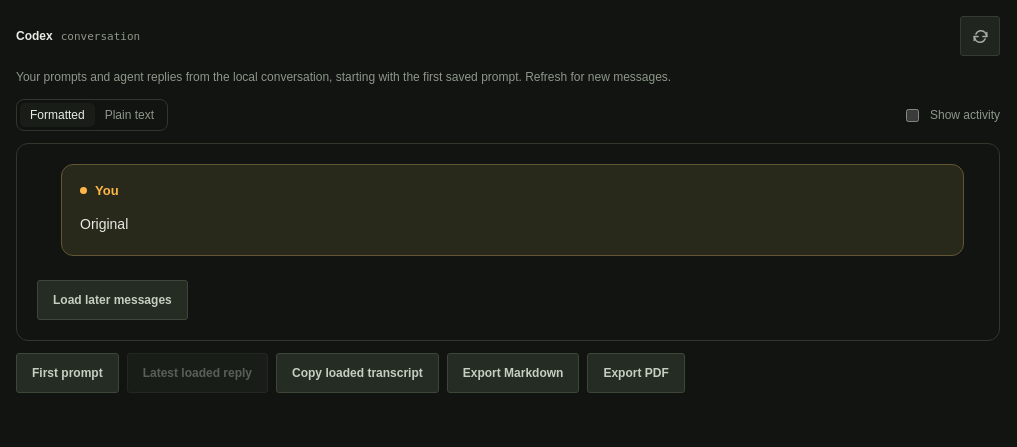
Test: AgentTranscript › keeps loaded messages on a paging error and refreshes from the beginning
Check: the text "Original" is shown, box [80,216,128,232]
Click the button "Load later messages" at (112, 300), box [37,280,188,320]
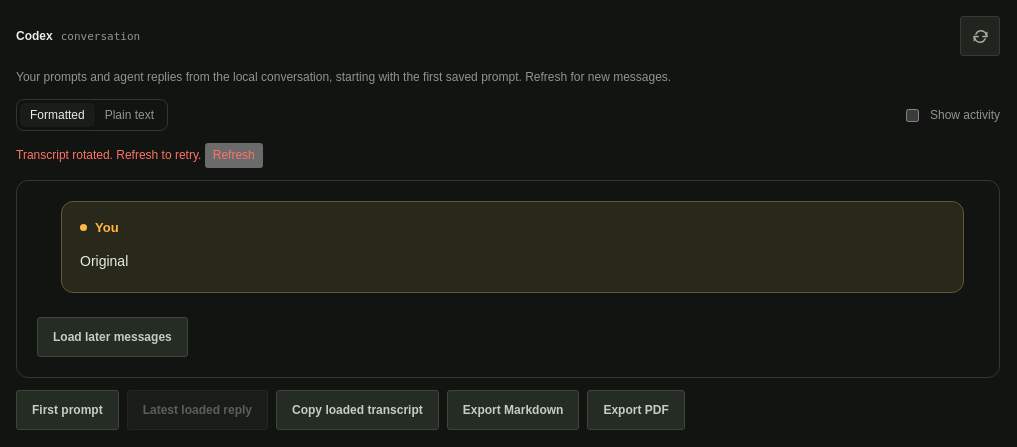
Check: the text "Original" is shown, box [80,253,128,269]
Check: the message "Transcript rotated. Refresh to retry. Refresh" is shown, box [16,143,263,168]
Click the button named "Refresh transcript" at (980, 36), box [960,16,1000,56]
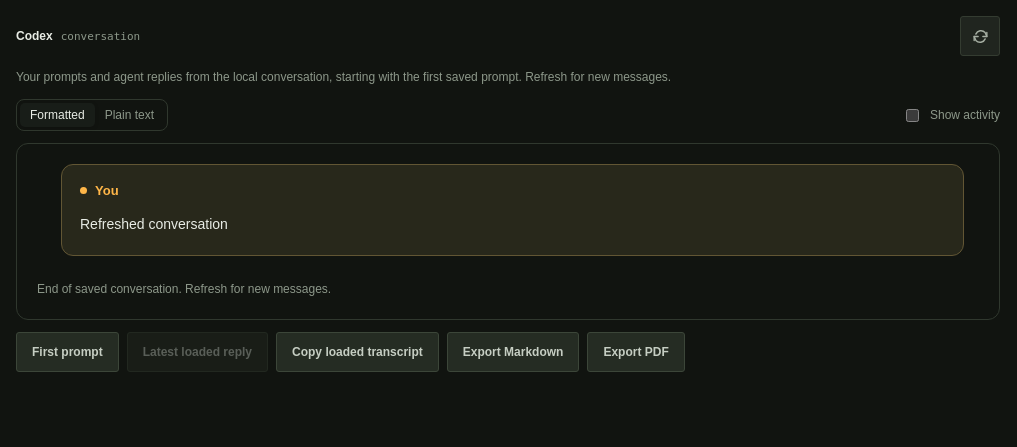
Check: the text "Refreshed conversation" is shown, box [80,216,228,232]
Check: the text "Original" is gone
